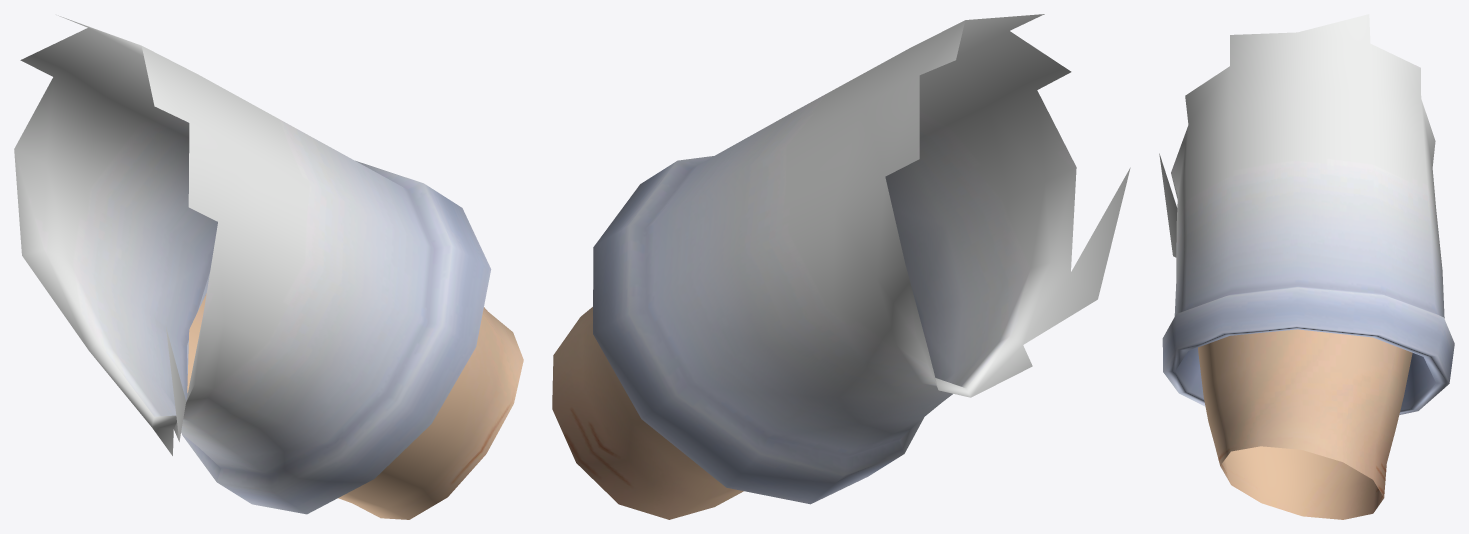
File: crazydave_brazo_izq.obj
The picture shows the model from 3 angles, left to right: view 1: azimuth 30°, elevation 25°; view 2: azimuth 150°, elevation 25°; view 3: azimuth 270°, elevation 25°; orthographic projection. The views are drawn at different scales.
Parts seen in each view (by area): view 1: crazydave_brazo_izq; view 2: crazydave_brazo_izq; view 3: crazydave_brazo_izq.
Boxes of the visible parts, <box> form: crazydave_brazo_izq: <box>14,15,523,519</box>; crazydave_brazo_izq: <box>552,14,1130,519</box>; crazydave_brazo_izq: <box>1159,14,1454,519</box>.
Size of the model in its own units: 0.397 by 0.4619 by 0.3091.
